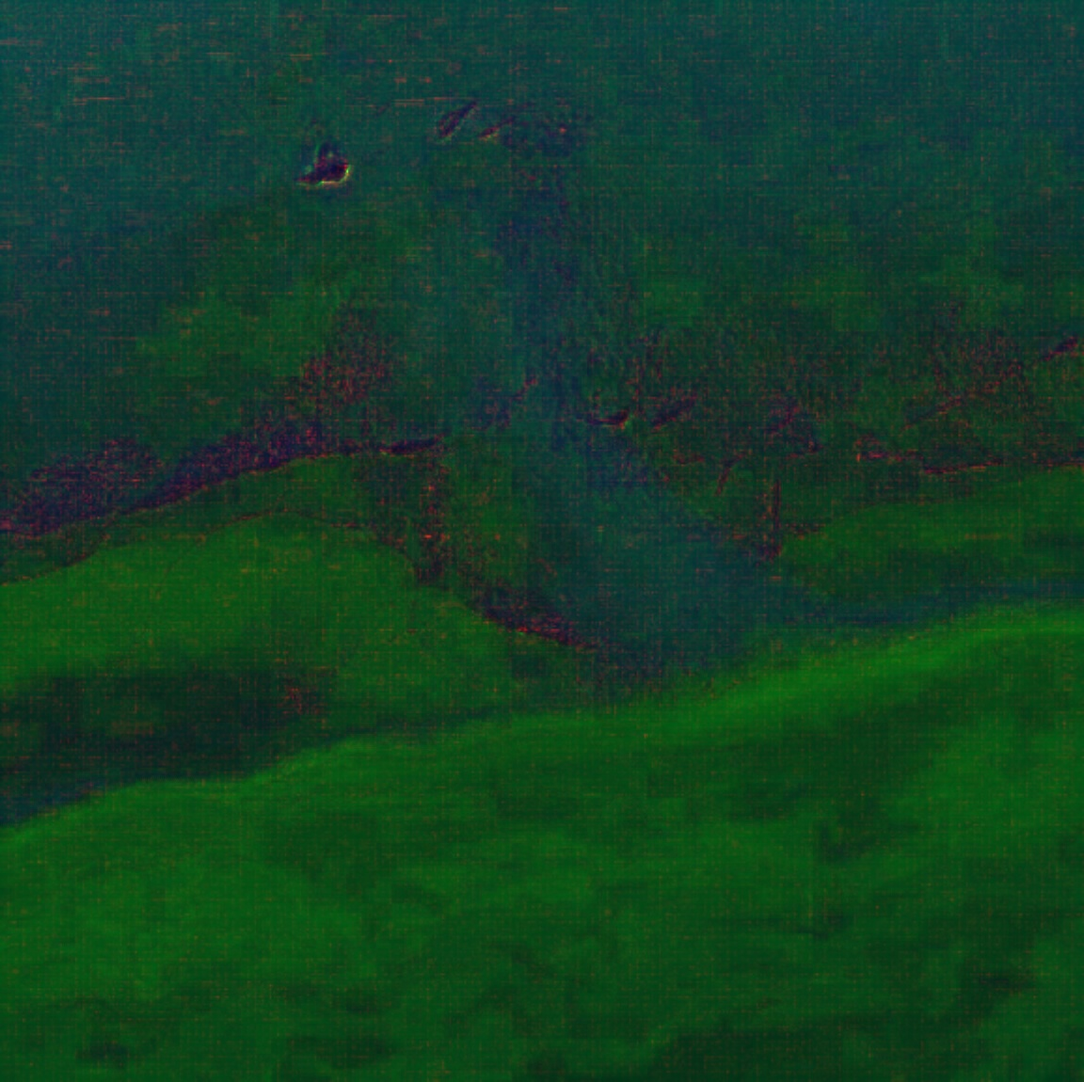rip_current: (257, 103, 776, 608)
